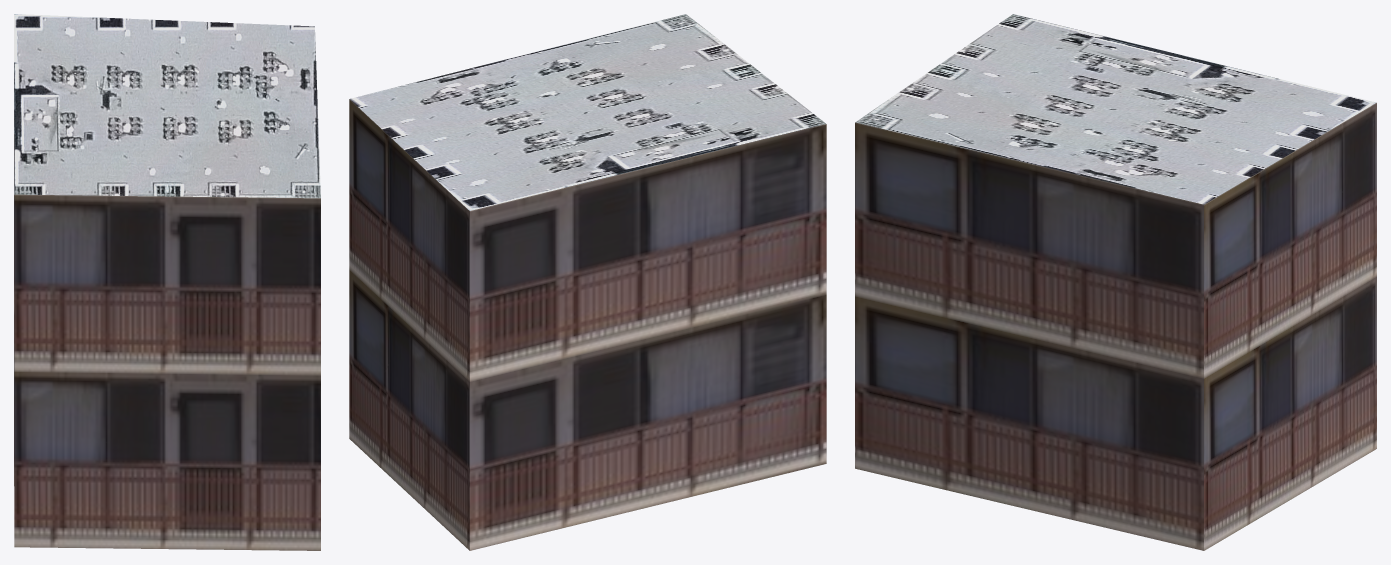
File: ResTex__2430.fbx
3 renders of one model, left to right at view 1: azimuth 30°, elevation 25°; view 2: azimuth 150°, elevation 25°; view 3: azimuth 270°, elevation 25°, orthographic. The views are drawn at different scales.
Visible parts, largest first — view 1: CityEngineMaterial_6_m, CityEngineMaterial_m; view 2: CityEngineMaterial_6_m, CityEngineMaterial_m; view 3: CityEngineMaterial_6_m, CityEngineMaterial_m.
Boxes of the visible parts, x1,y1,x2,y2 form: CityEngineMaterial_6_m: [14, 134, 320, 550]; CityEngineMaterial_m: [14, 14, 320, 198]; CityEngineMaterial_6_m: [349, 99, 826, 550]; CityEngineMaterial_m: [350, 14, 825, 210]; CityEngineMaterial_6_m: [855, 103, 1376, 550]; CityEngineMaterial_m: [855, 14, 1376, 204].
Bounding box in the file's own units: 7.09 × 6 × 8.19.
Materials: 2 (2 with a texture image).
